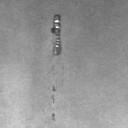slag inclusion: (50, 13, 62, 56), (51, 94, 55, 103), (52, 86, 57, 92), (51, 114, 55, 121)
